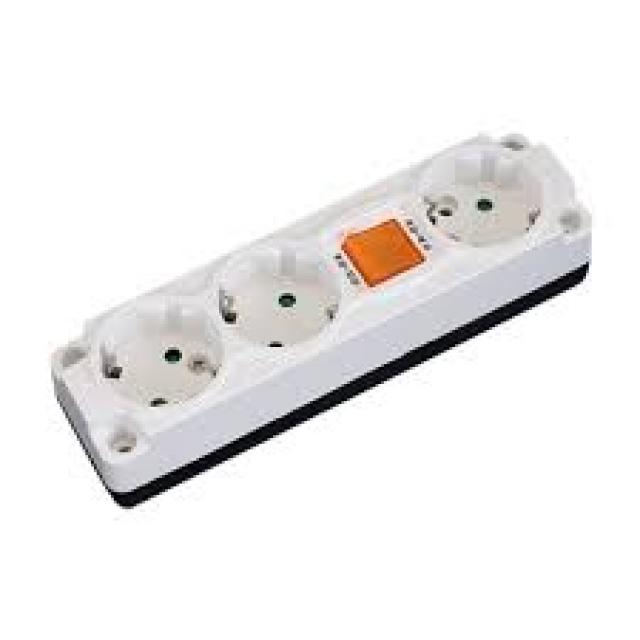typeb: (45, 144, 610, 520)
